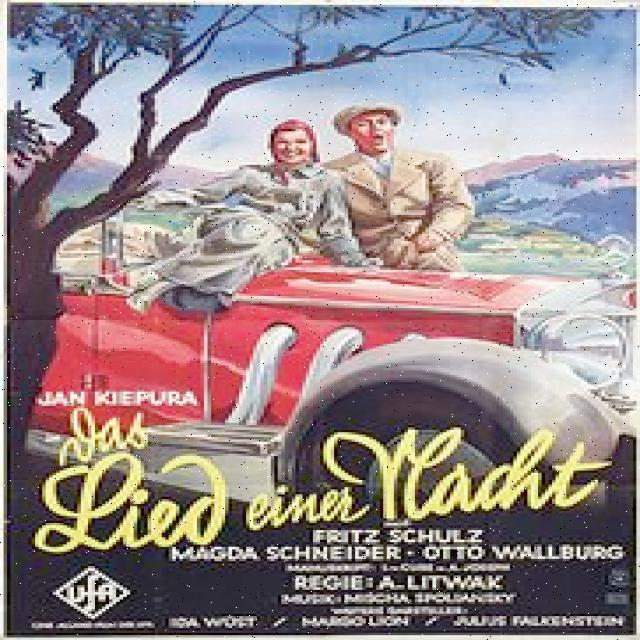movie-judul: (24, 382, 632, 634)
picture: (3, 2, 640, 518)
